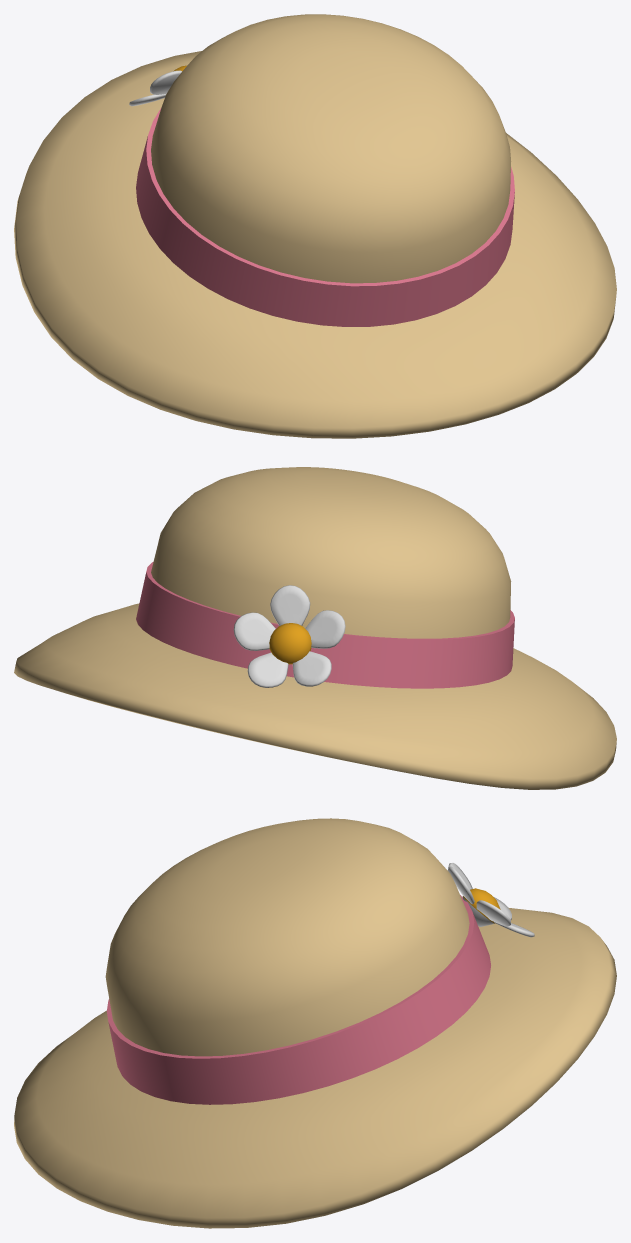
Rendered from Cosmetic_Sun_Hat.glb.
The picture shows the model from 3 angles, top to bottom: view 1: azimuth 30°, elevation 25°; view 2: azimuth 150°, elevation 25°; view 3: azimuth 270°, elevation 25°; orthographic projection. The views are drawn at different scales.
Visible parts, largest first — view 1: Cosmetic_Sun_Hat; view 2: Cosmetic_Sun_Hat; view 3: Cosmetic_Sun_Hat.
Part boxes in pixels (left/top/right/bottom): Cosmetic_Sun_Hat: left=14, top=14, right=616, bottom=438; Cosmetic_Sun_Hat: left=14, top=467, right=616, bottom=789; Cosmetic_Sun_Hat: left=14, top=818, right=616, bottom=1228.
Bounding box in the file's own units: 1.54 × 0.7628 × 1.5.
